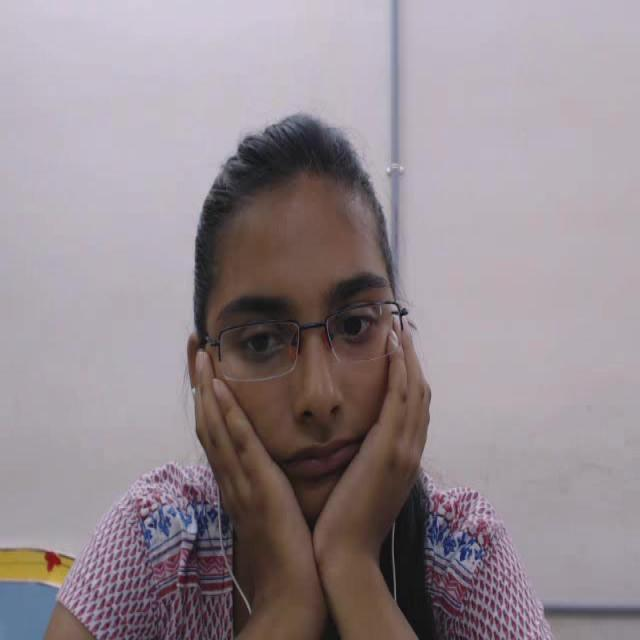Bored: (146, 91, 463, 593)
